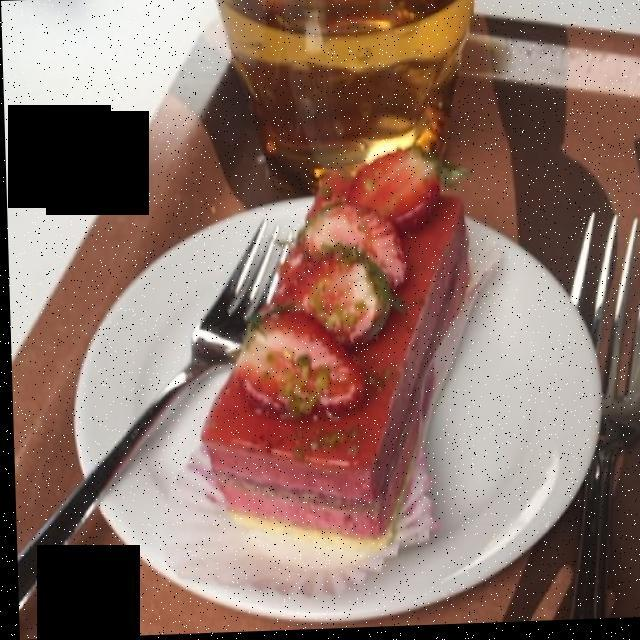biscuits: (213, 511, 380, 551)
